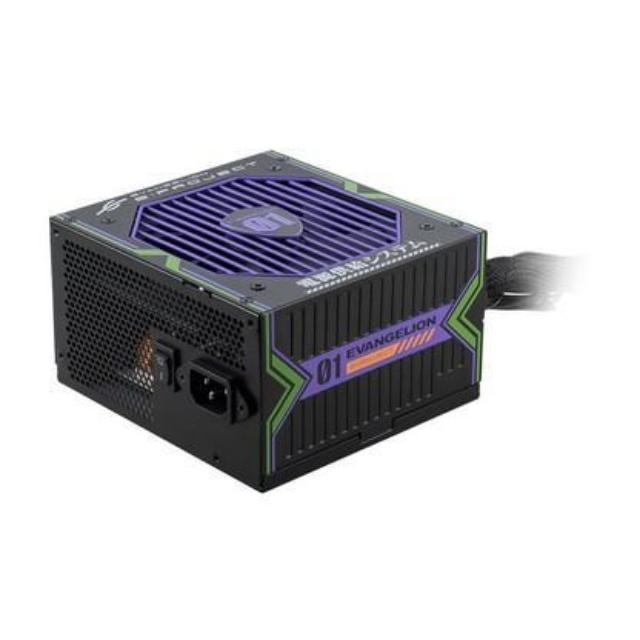PSU: (26, 136, 502, 493)
